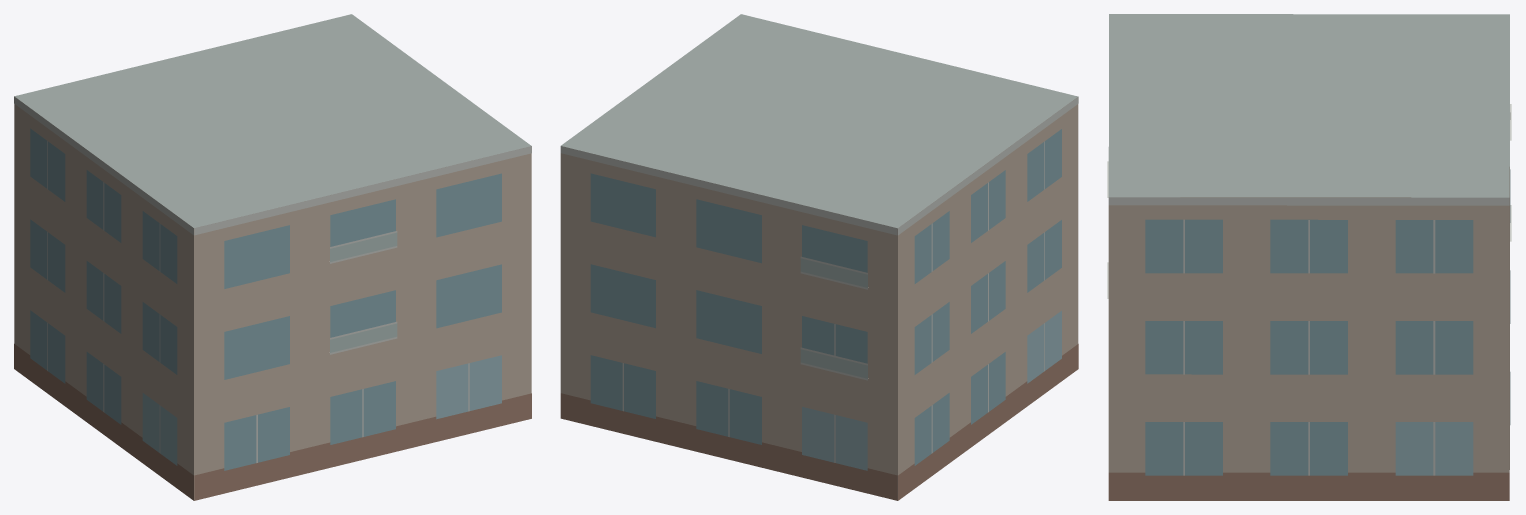
The model's file is survey-upis-32840983.glb.
3 renders of one model, left to right at view 1: azimuth 30°, elevation 25°; view 2: azimuth 150°, elevation 25°; view 3: azimuth 270°, elevation 25°, orthographic. The views are drawn at different scales.
Parts seen in each view (by area): view 1: survey-upis-32840983.tmp; view 2: survey-upis-32840983.tmp; view 3: survey-upis-32840983.tmp.
Part boxes in pixels (box(x1,y1,x2,y2)): survey-upis-32840983.tmp: box(14, 14, 531, 500); survey-upis-32840983.tmp: box(560, 14, 1078, 500); survey-upis-32840983.tmp: box(1107, 14, 1511, 500).
Size of the model in its own units: 11.88 by 9.15 by 11.05.
